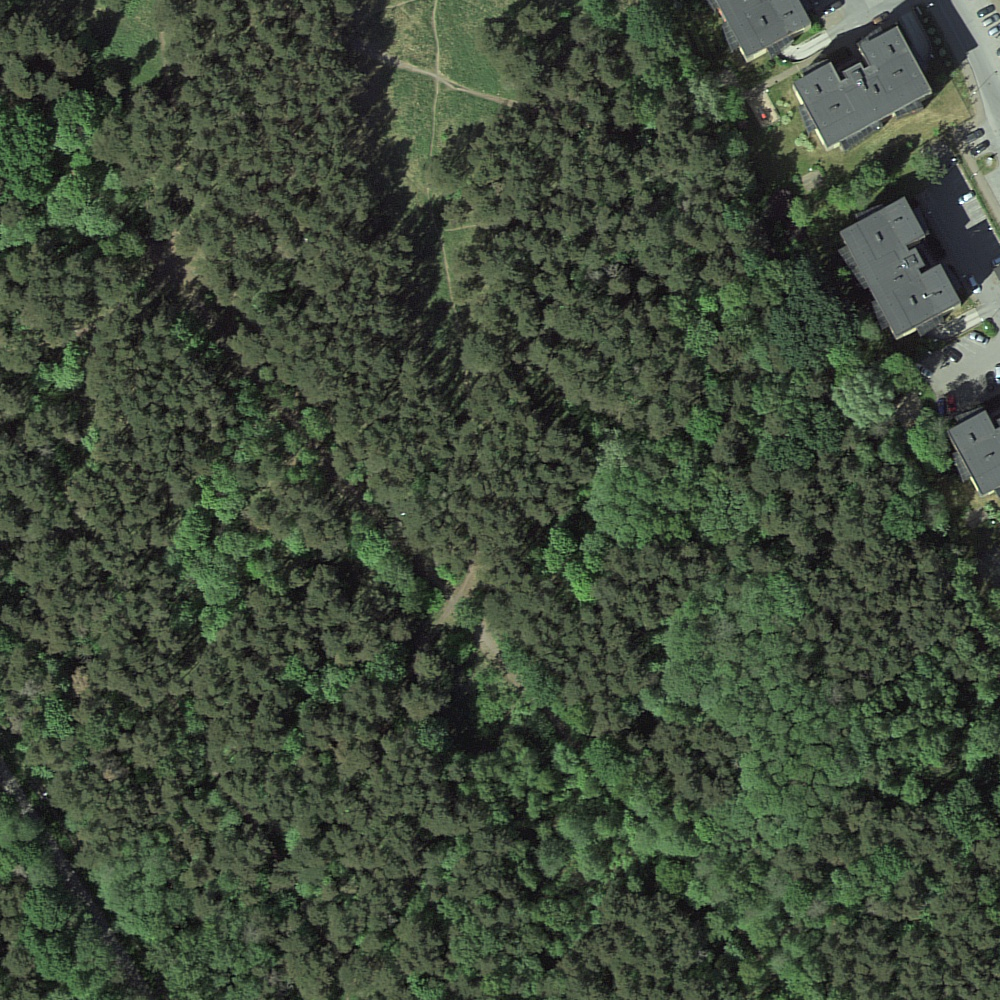building: (794, 24, 935, 149), (840, 197, 961, 338), (712, 1, 814, 58), (947, 412, 1000, 497)
